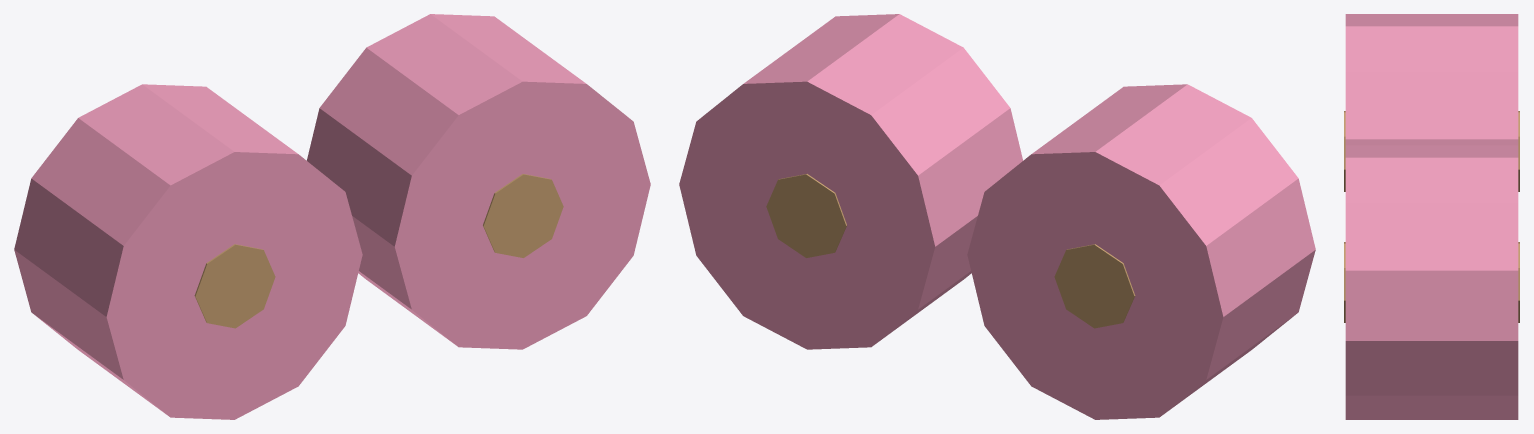
File: fair_ticket_rolls.glb
The picture shows the model from 3 angles, left to right: view 1: azimuth 30°, elevation 25°; view 2: azimuth 150°, elevation 25°; view 3: azimuth 270°, elevation 25°; orthographic projection. The views are drawn at different scales.
Visible parts, largest first — view 1: rolls_ticket_pink, cores_fair_wood; view 2: rolls_ticket_pink, cores_fair_wood; view 3: rolls_ticket_pink, cores_fair_wood.
Boxes of the visible parts, left/top/right/bottom form: rolls_ticket_pink: left=14, top=14, right=650, bottom=419; cores_fair_wood: left=194, top=174, right=563, bottom=328; rolls_ticket_pink: left=679, top=14, right=1315, bottom=419; cores_fair_wood: left=766, top=174, right=1135, bottom=328; rolls_ticket_pink: left=1345, top=14, right=1518, bottom=419; cores_fair_wood: left=1344, top=111, right=1519, bottom=322.
Bounding box in the file's own units: 0.34 × 0.16 × 0.102.
